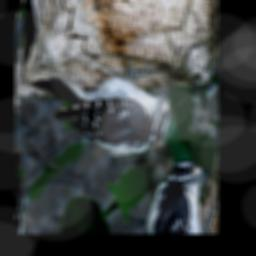Woodpecker: (29, 0, 187, 213)
